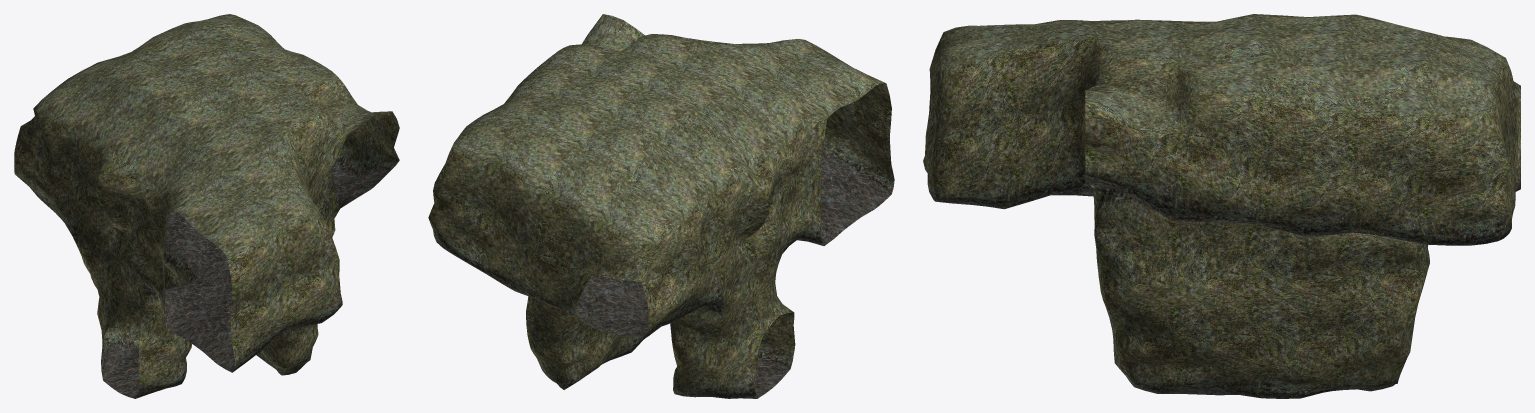
Rendered from thm_all_cave_s02_damprock_mirror_r2_mesh_r2.fbx.
3 views of the same model, side by side, from view 1: azimuth 30°, elevation 25°; view 2: azimuth 150°, elevation 25°; view 3: azimuth 270°, elevation 25° (orthographic). The views are drawn at different scales.
Visible parts, largest first — view 1: mesh_node; view 2: mesh_node; view 3: mesh_node.
Boxes of the visible parts, <box> form: mesh_node: <box>14,14,399,398</box>; mesh_node: <box>428,14,894,398</box>; mesh_node: <box>923,14,1520,398</box>.
Size of the model in its own units: 43.2 by 47.58 by 71.62.
